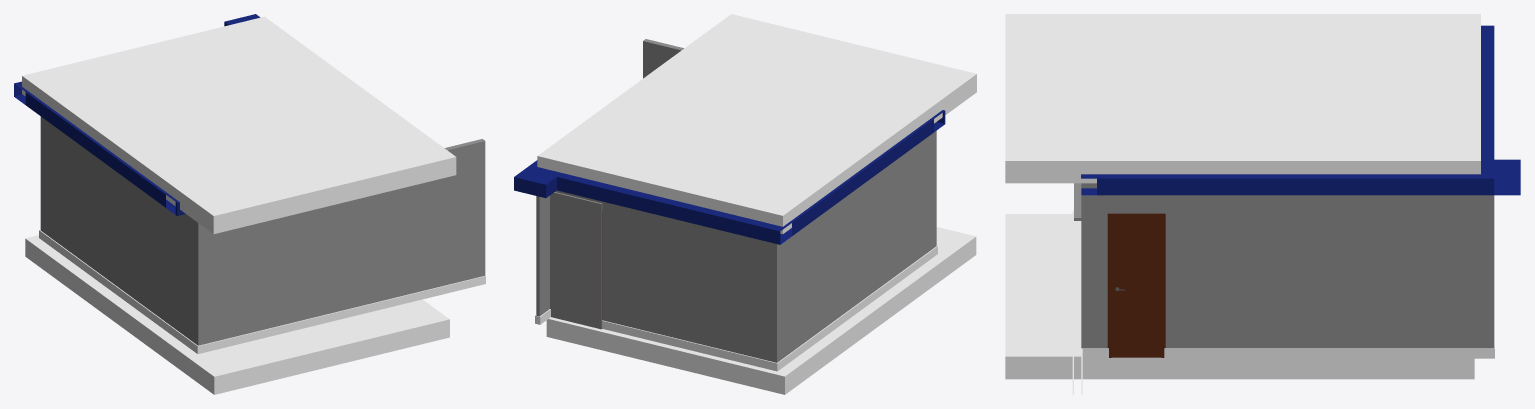
Rendered from Quirofano.FBX.
The picture shows the model from 3 angles, left to right: view 1: azimuth 30°, elevation 25°; view 2: azimuth 150°, elevation 25°; view 3: azimuth 270°, elevation 25°; orthographic projection. The views are drawn at different scales.
Visible parts, largest first — view 1: Quirofano_12, Quirofano_14, Quirofano_09, Quirofano_11, Quirofano_04; view 2: Quirofano_12, Quirofano_14, Quirofano_09, Quirofano_04, Quirofano_15, Quirofano_11; view 3: Quirofano_12, Quirofano_14, Quirofano_09, Quirofano_04, Quirofano_10, Quirofano_11, Quirofano_06.
Boxes of the visible parts, x1,y1,x2,y2 form: Quirofano_12: (22,16,456,233); Quirofano_14: (40,116,485,345); Quirofano_09: (25,235,449,394); Quirofano_11: (39,230,485,353); Quirofano_04: (14,14,260,215); Quirofano_12: (537,14,976,234); Quirofano_14: (536,39,936,362); Quirofano_09: (546,227,976,394); Quirofano_04: (514,110,945,244); Quirofano_15: (550,192,602,329); Quirofano_11: (535,246,937,371); Quirofano_12: (1005,14,1480,183); Quirofano_14: (1074,183,1494,348); Quirofano_09: (1005,214,1474,379); Quirofano_04: (1081,25,1520,195); Quirofano_10: (1111,217,1161,357); Quirofano_11: (1072,210,1494,394); Quirofano_06: (1107,213,1165,357).
Size of the model in its own units: 598 by 339 by 712.
